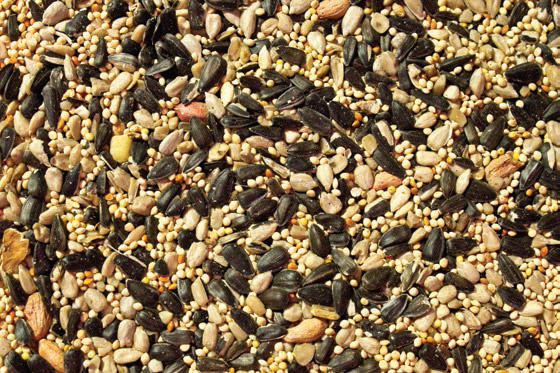seed: (1, 1, 560, 373)
